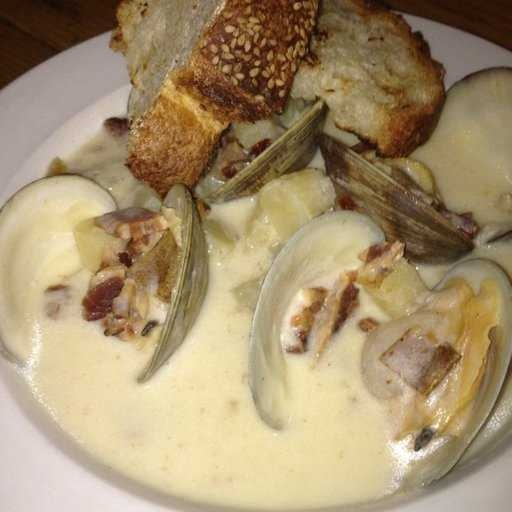soup: (5, 17, 511, 499)
